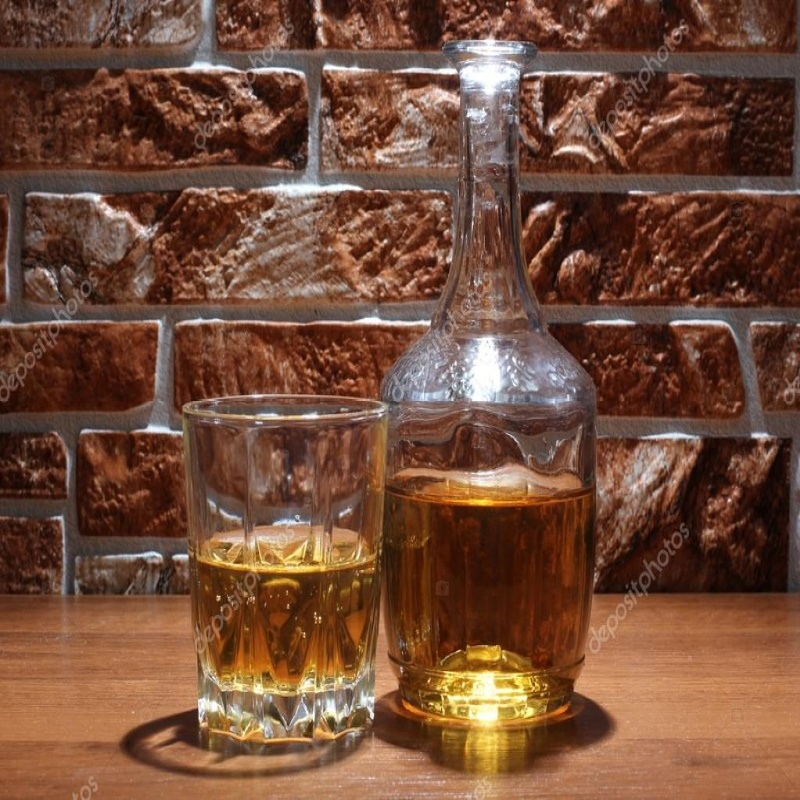whiskey: (182, 394, 382, 738)
